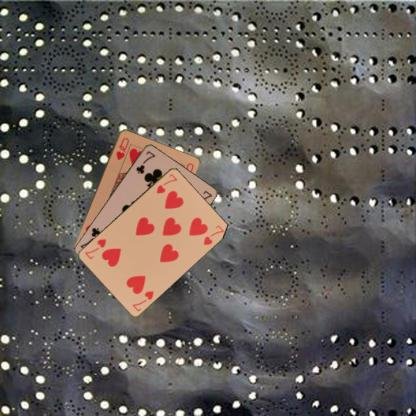7c: (134, 148, 156, 175)
7h: (130, 288, 155, 312), (154, 171, 178, 195)
Qh: (113, 135, 130, 161)
